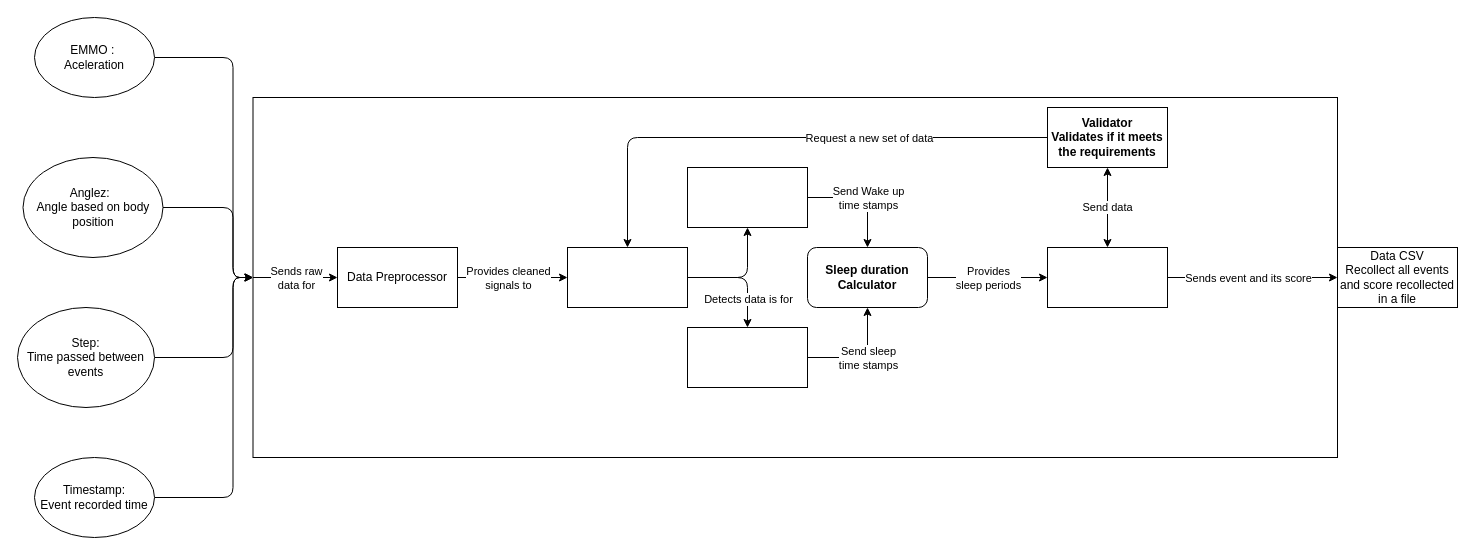
The diagram is 1475 pixels wide and 555 high, and some of its shapes have lost their labels. Each missing label, with the box of its shape:
Event Detect: (566, 246, 688, 308)
Pattern Recognizer Select a score based on the sleep period: (1046, 246, 1168, 308)
Sleep: (686, 326, 808, 388)
WakeUp: (686, 166, 808, 228)
